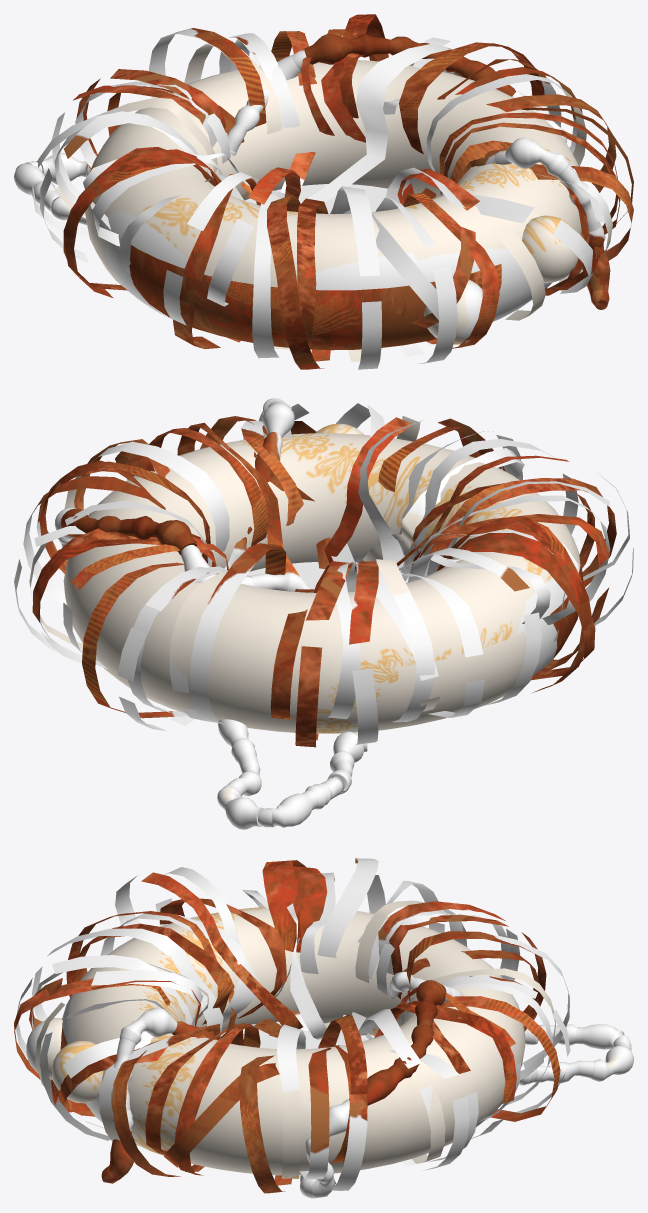
Rendered from nest.obj.
3 renders of one model, top to bottom at view 1: azimuth 30°, elevation 25°; view 2: azimuth 150°, elevation 25°; view 3: azimuth 270°, elevation 25°, orthographic. The views are drawn at different scales.
Visible parts, largest first — view 1: pCylinder29, pTorus1, MASH1_ReproMesh, pSphere2, pSphere1, pCylinder28; view 2: pCylinder29, pTorus1, MASH1_ReproMesh, pCylinder28; view 3: pCylinder29, pTorus1, MASH1_ReproMesh, pSphere2, pSphere1, pCylinder28.
Boxes of the visible parts, x1=… form: pCylinder29: x1=32, y1=14, x2=633, y2=369; pTorus1: x1=85, y1=60, x2=581, y2=350; MASH1_ReproMesh: x1=14, y1=34, x2=610, y2=309; pSphere2: x1=522, y1=215, x2=578, y2=283; pSphere1: x1=424, y1=279, x2=482, y2=344; pCylinder28: x1=244, y1=184, x2=387, y2=213; pCylinder29: x1=14, y1=403, x2=633, y2=747; pTorus1: x1=63, y1=433, x2=583, y2=733; MASH1_ReproMesh: x1=54, y1=398, x2=367, y2=829; pCylinder28: x1=247, y1=562, x2=408, y2=589; pCylinder29: x1=14, y1=858, x2=570, y2=1193; pTorus1: x1=60, y1=907, x2=525, y2=1175; MASH1_ReproMesh: x1=101, y1=971, x2=633, y2=1198; pSphere2: x1=51, y1=1041, x2=103, y2=1103; pSphere1: x1=26, y1=1018, x2=62, y2=1079; pCylinder28: x1=219, y1=1021, x2=374, y2=1048.
Bounding box in the file's own units: 2.95 × 1.04 × 3.28.
